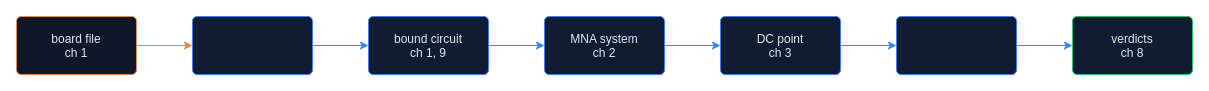
The diagram is 1209 pixels wide and 91 high, and some of its shapes have lost their labels. Each missing label, with the centre of its shape:
netlist ch 1: (x=252, y=45)
waveforms ch 4–7: (x=956, y=45)
